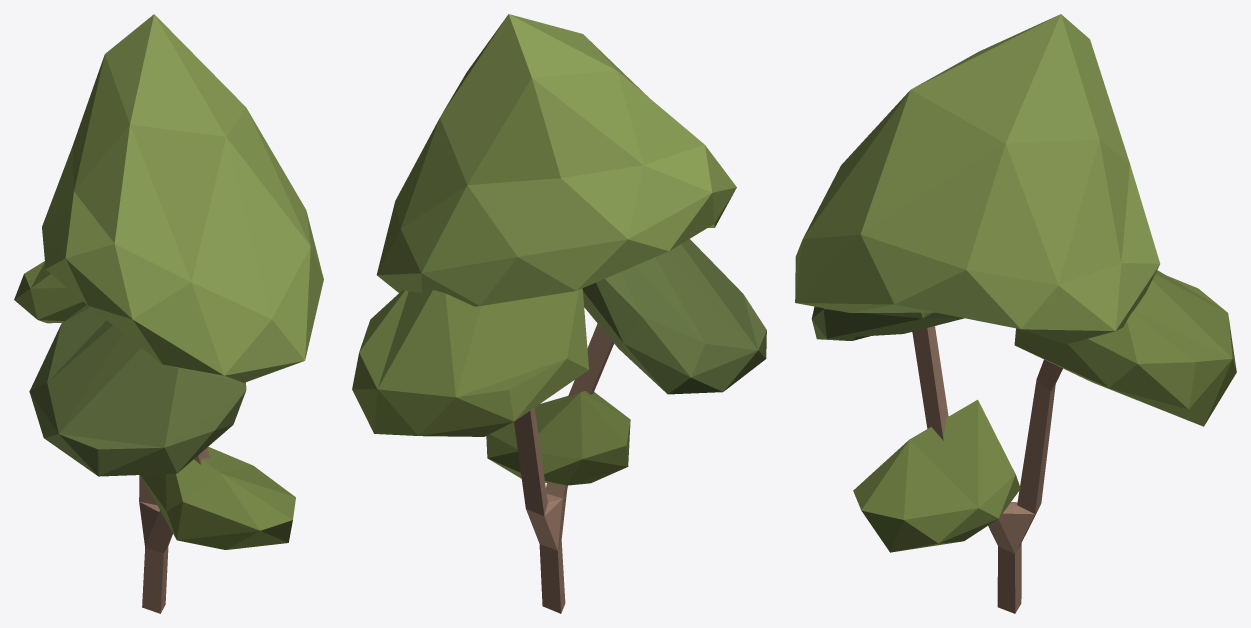
The model's file is Tree_Type4_02.glb.
3 views of the same model, side by side, from view 1: azimuth 30°, elevation 25°; view 2: azimuth 150°, elevation 25°; view 3: azimuth 270°, elevation 25° (orthographic). The views are drawn at different scales.
Visible parts, largest first — view 1: Tree Type4 02 Model; view 2: Tree Type4 02 Model; view 3: Tree Type4 02 Model.
Boxes of the visible parts, x1,y1,x2,y2 form: Tree Type4 02 Model: (14,14,323,613); Tree Type4 02 Model: (352,14,766,613); Tree Type4 02 Model: (795,14,1236,613).
Size of the model in its own units: 1.85 by 3.55 by 2.35.
1 material, 1 textured.
